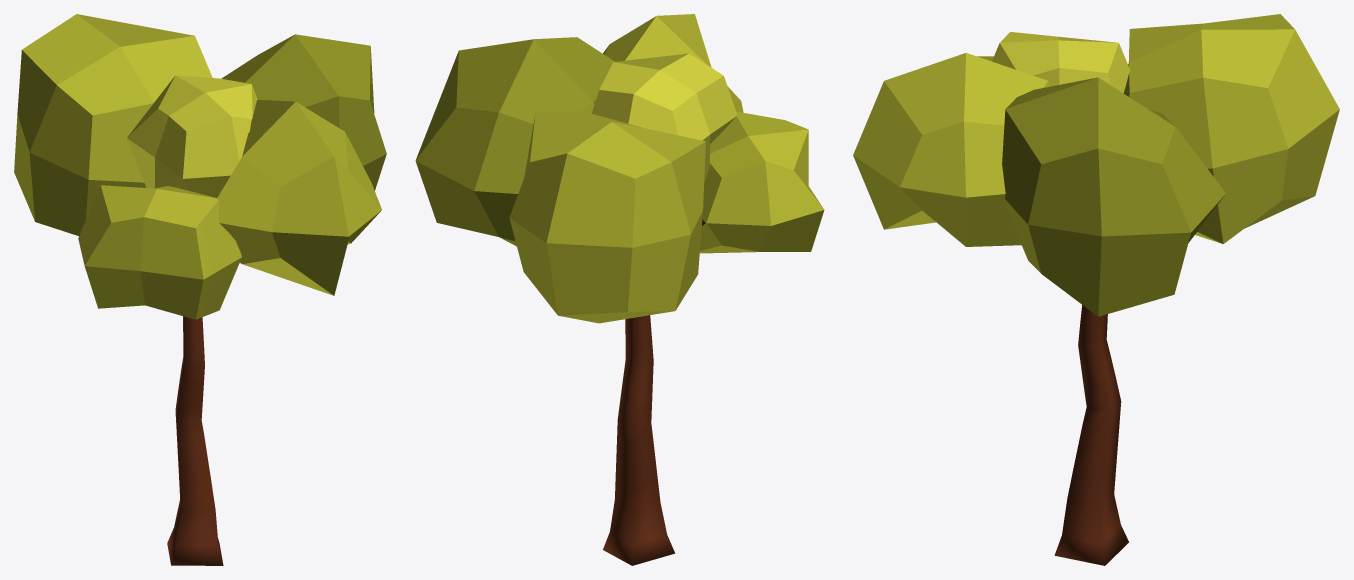
The model's file is arbre_01.fbx.
The picture shows the model from 3 angles, left to right: view 1: azimuth 30°, elevation 25°; view 2: azimuth 150°, elevation 25°; view 3: azimuth 270°, elevation 25°; orthographic projection. The views are drawn at different scales.
Parts seen in each view (by area): view 1: Cube.004; view 2: Cube.004; view 3: Cube.004.
Boxes of the visible parts, x1=… form: Cube.004: x1=14, y1=14, x2=386, y2=565; Cube.004: x1=415, y1=14, x2=824, y2=565; Cube.004: x1=853, y1=14, x2=1339, y2=565.
Size of the model in its own units: 555 by 789 by 661.
